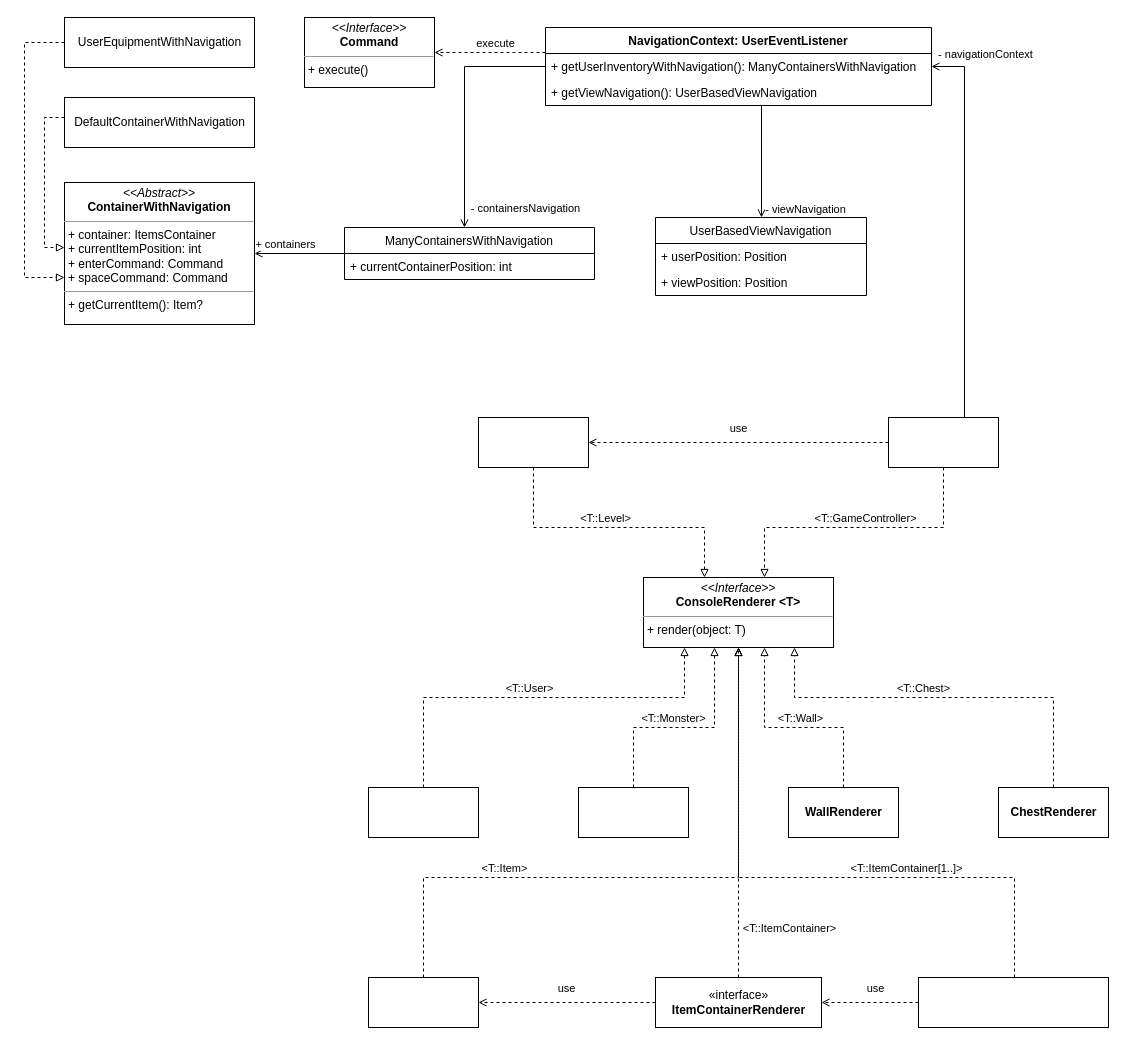
Image size: 1126x1045. Some labels were removed from this diagram. Each missing label, with the centre of its shape:
GameRenderer: (x=943, y=442)
LevelRenderer: (x=533, y=442)
MonsterRenderer: (x=633, y=812)
UserRenderer: (x=423, y=812)
«interface» ItemRenderer: (x=423, y=1002)
«interface» ManyContainersRenderer: (x=1013, y=1002)
